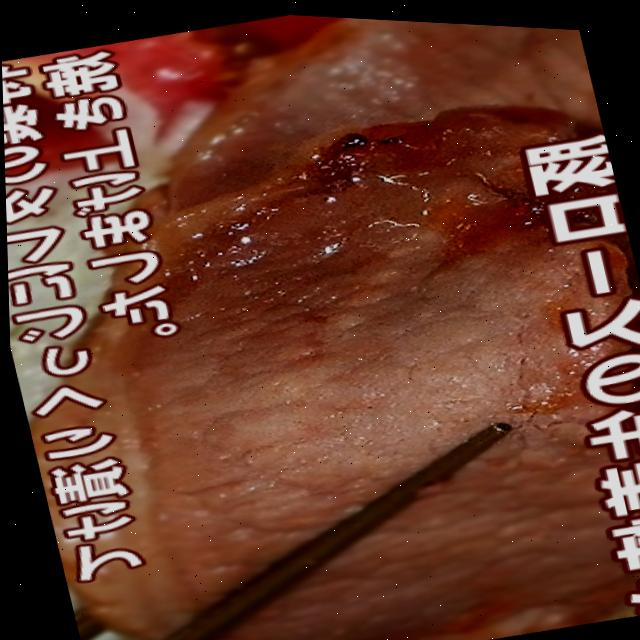猪肉菜式: (116, 5, 614, 640)
